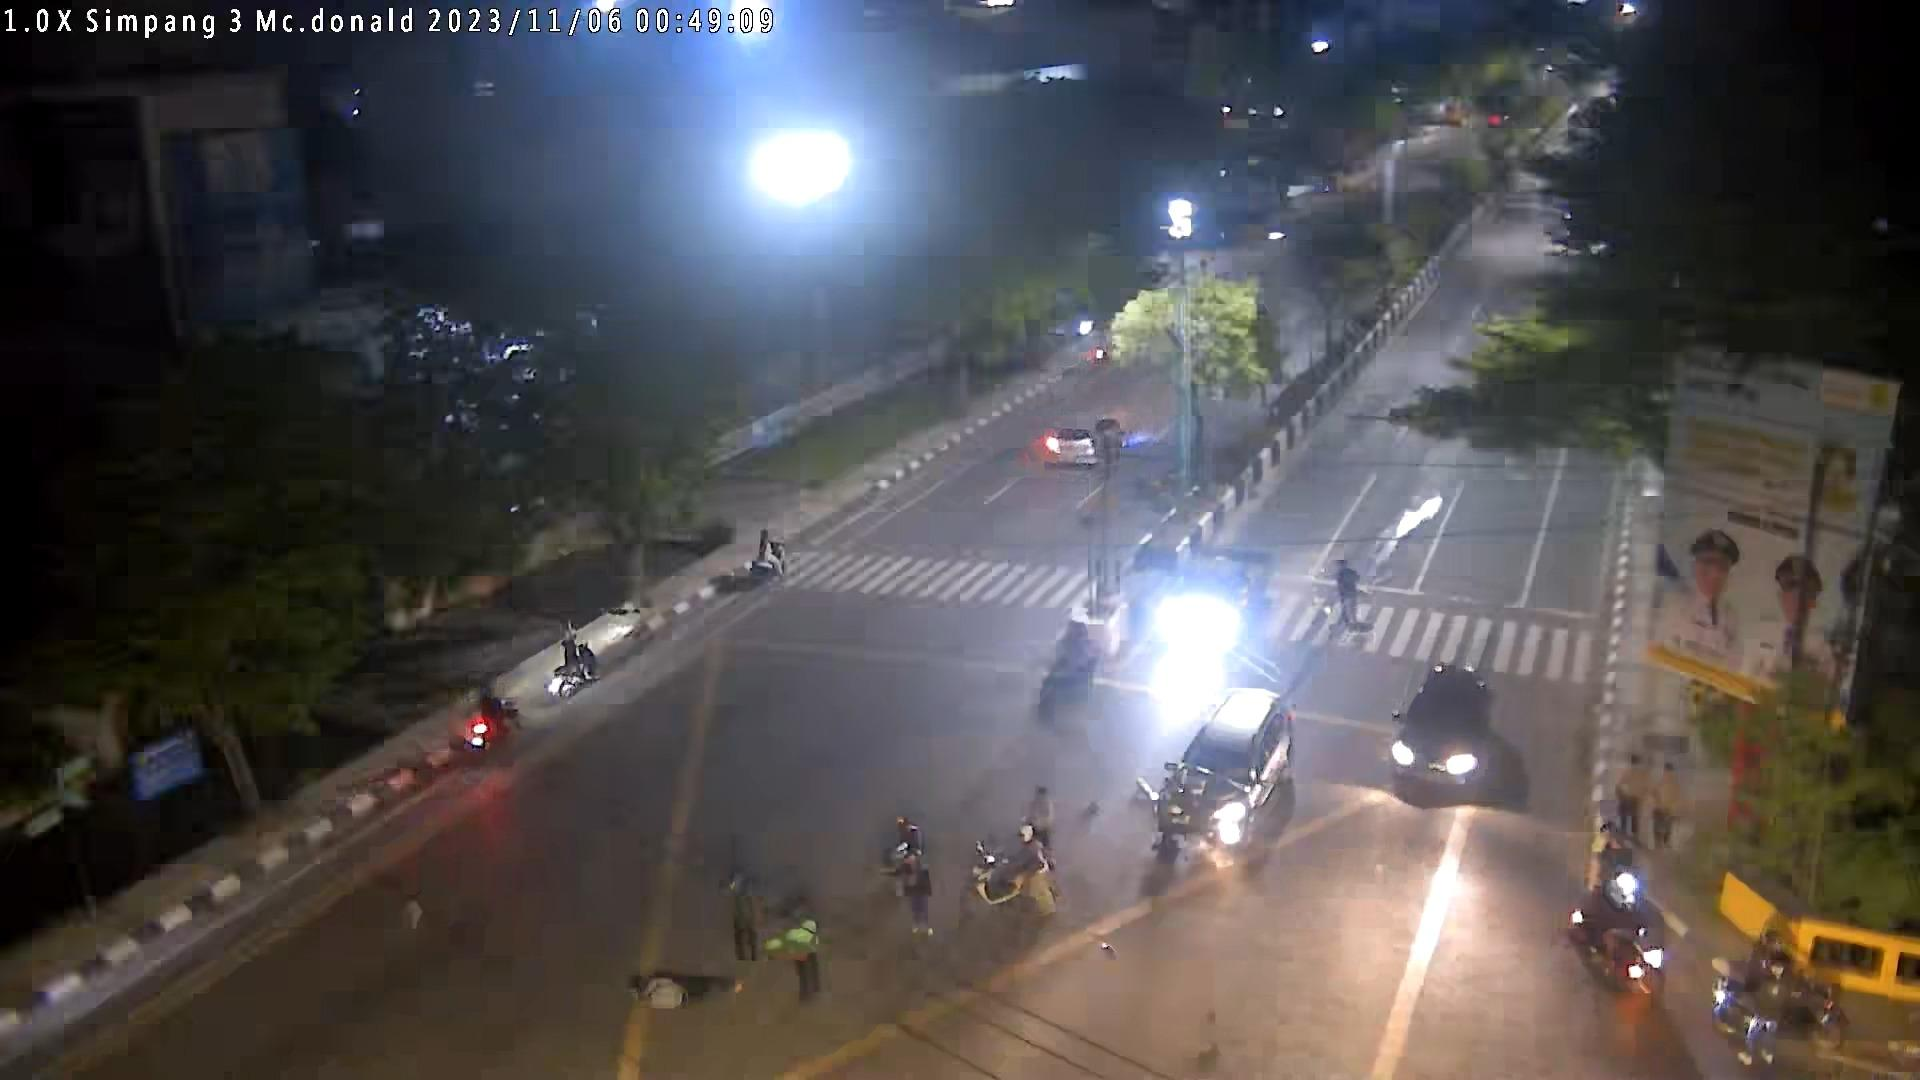accident: (622, 973, 744, 1014)
